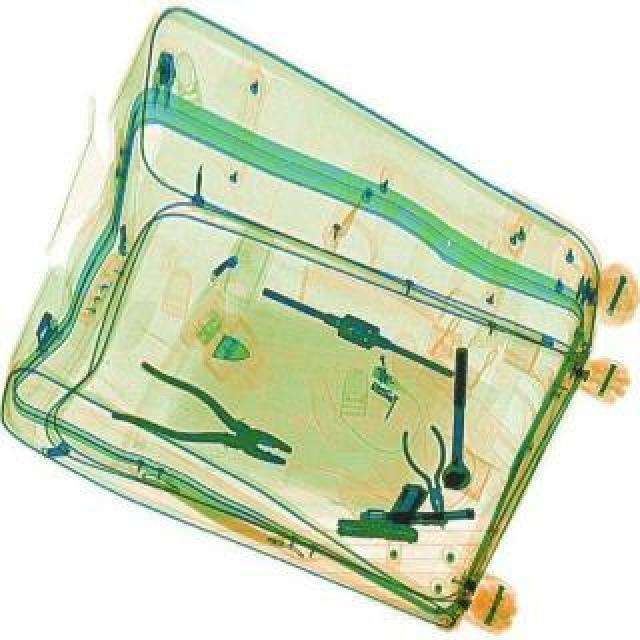gun: (334, 474, 426, 544)
wrench: (110, 354, 302, 488), (398, 422, 466, 532)
